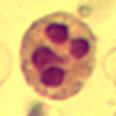neutrophil: (14, 11, 103, 103)
